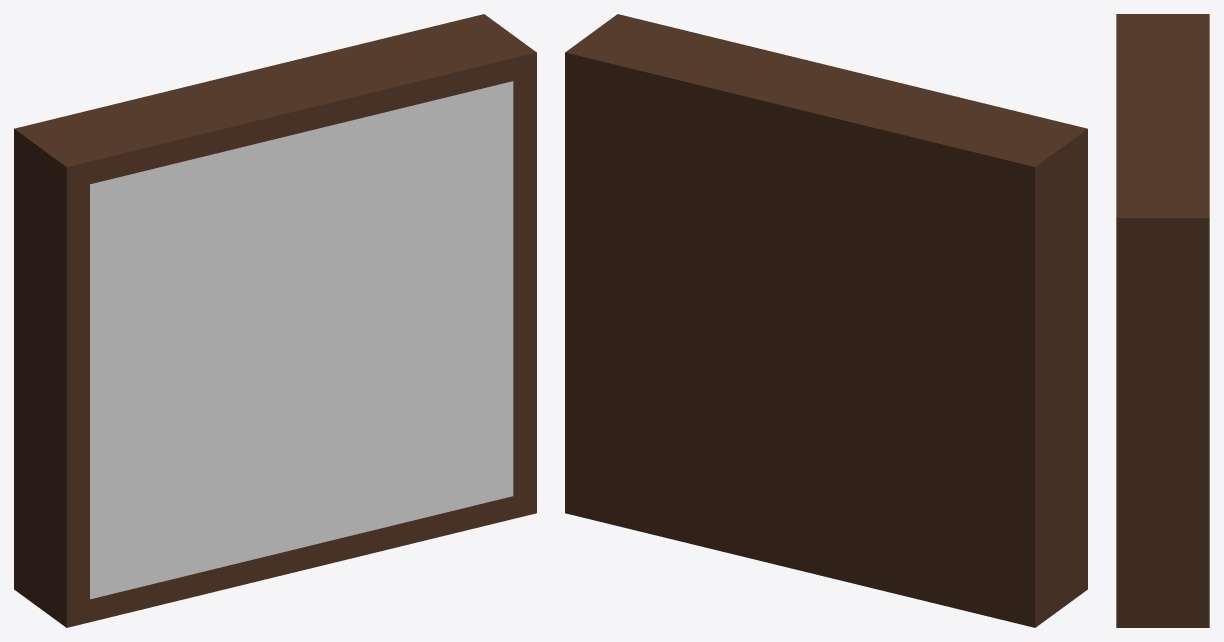
The model's file is SignPost.fbx.
3 views of the same model, side by side, from view 1: azimuth 30°, elevation 25°; view 2: azimuth 150°, elevation 25°; view 3: azimuth 270°, elevation 25° (orthographic). The views are drawn at different scales.
Visible parts, largest first — view 1: Sign; view 2: Sign; view 3: Sign.
Part boxes in pixels (x1,y1,x2,y2): Sign: [14, 14, 536, 627]; Sign: [565, 14, 1087, 627]; Sign: [1116, 14, 1209, 627].
Bounding box in the file's own units: 129 × 121 × 25.02.
